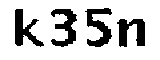3: (47, 6, 78, 49)
5: (84, 7, 112, 51)
k: (11, 7, 43, 51)
n: (114, 16, 147, 52)
